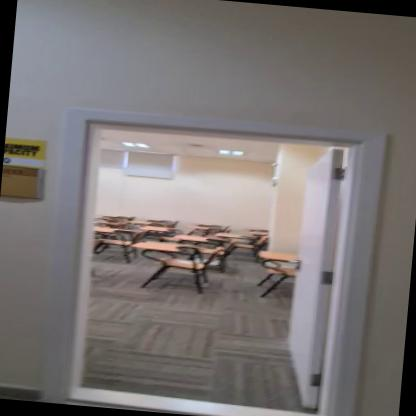open: (34, 89, 385, 415)
